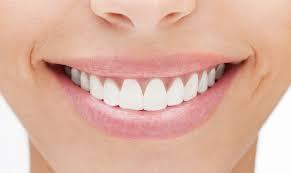normal: (142, 77, 170, 112), (117, 77, 144, 111), (101, 77, 121, 106), (168, 76, 186, 108), (184, 72, 200, 104), (89, 72, 105, 100), (77, 70, 91, 91), (198, 68, 209, 94), (69, 68, 82, 87), (206, 67, 217, 88), (62, 65, 72, 79)
